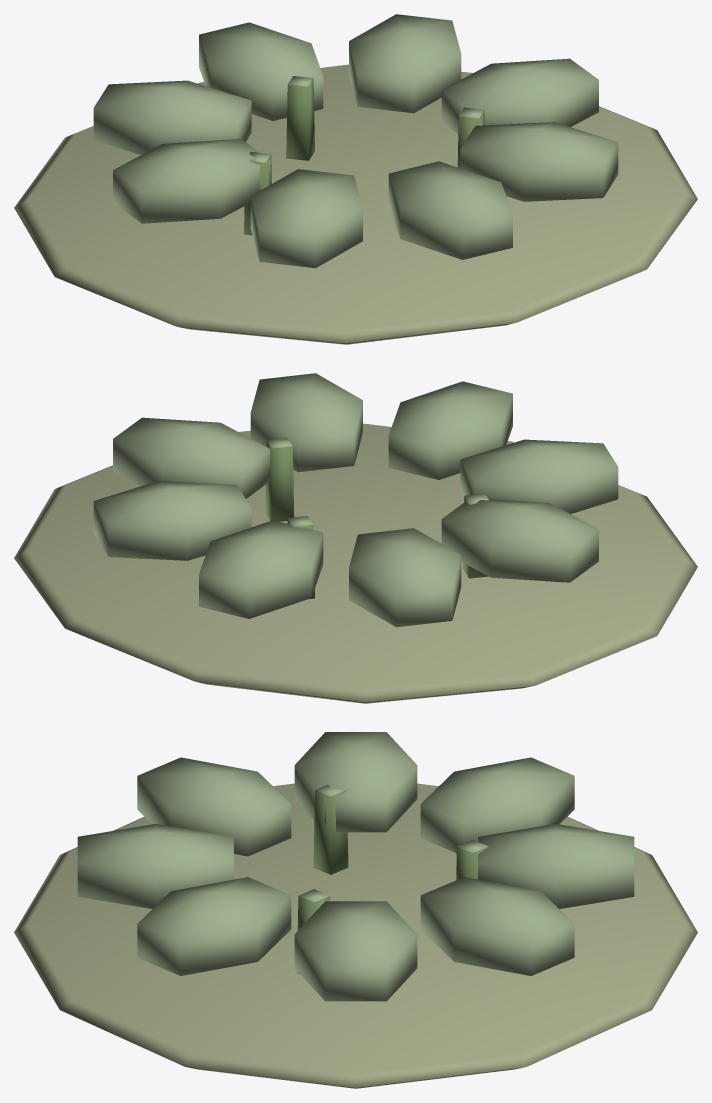
Rendered from herb_patch_gathered.glb.
3 views of the same model, one above another, from view 1: azimuth 30°, elevation 25°; view 2: azimuth 150°, elevation 25°; view 3: azimuth 270°, elevation 25° (orthographic). The views are drawn at different scales.
Visible parts, largest first — view 1: herb_patch_gathered; view 2: herb_patch_gathered; view 3: herb_patch_gathered.
Part boxes in pixels (left/top/right/bottom): herb_patch_gathered: left=14, top=14, right=697, bottom=344; herb_patch_gathered: left=14, top=373, right=697, bottom=703; herb_patch_gathered: left=14, top=732, right=697, bottom=1088.
Bounding box in the file's own units: 0.88 × 0.15 × 0.82.
